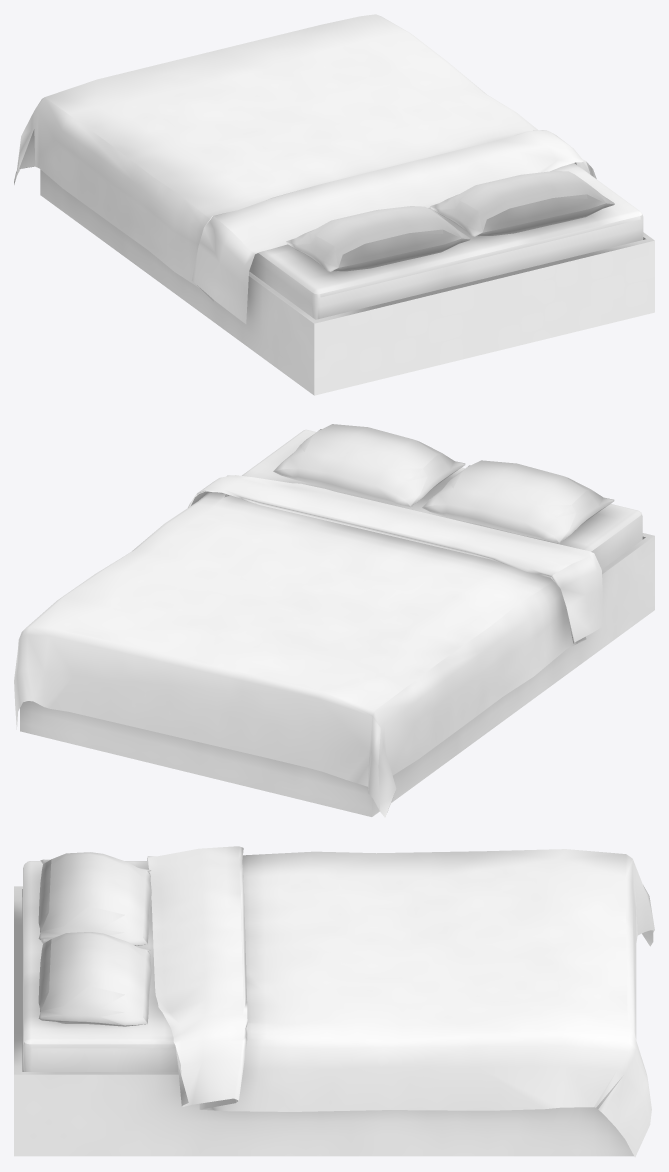
Rendered from BedBig.glb.
3 renders of one model, top to bottom at view 1: azimuth 30°, elevation 25°; view 2: azimuth 150°, elevation 25°; view 3: azimuth 270°, elevation 25°, orthographic. The views are drawn at different scales.
Parts seen in each view (by area): view 1: BedBig.001, BedBig, BedBig.003, BedBig.002; view 2: BedBig.001, BedBig, BedBig.002, BedBig.003; view 3: BedBig.001, BedBig, BedBig.002, BedBig.003.
Part boxes in pixels (x1,y1,x2,y2): BedBig.001: [14, 14, 596, 323]; BedBig: [40, 169, 654, 395]; BedBig.003: [249, 163, 645, 319]; BedBig.002: [286, 171, 614, 271]; BedBig.001: [14, 475, 602, 817]; BedBig: [20, 533, 654, 816]; BedBig.002: [273, 424, 614, 543]; BedBig.003: [242, 429, 645, 569]; BedBig.001: [147, 846, 654, 1157]; BedBig: [14, 886, 633, 1156]; BedBig.002: [38, 852, 151, 1026]; BedBig.003: [22, 861, 178, 1071].
Bounding box in the file's own units: 1.67 × 0.5742 × 2.1.
Materials: 3 (3 with a texture image).
